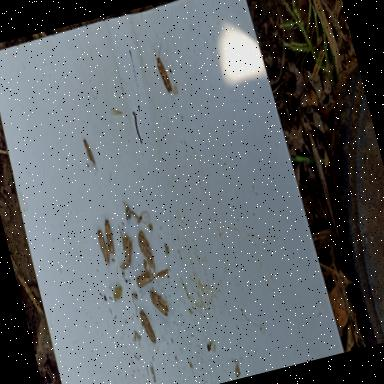pbw: (150, 37, 176, 98), (116, 222, 138, 268), (95, 227, 118, 266), (138, 308, 158, 346), (148, 285, 170, 319), (100, 218, 118, 259), (82, 138, 98, 172), (133, 266, 155, 288), (130, 266, 143, 276)
